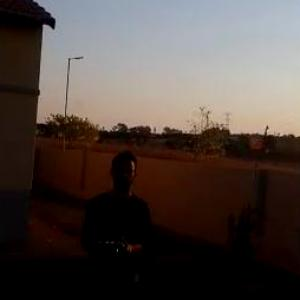follow: (75, 145, 156, 299)
